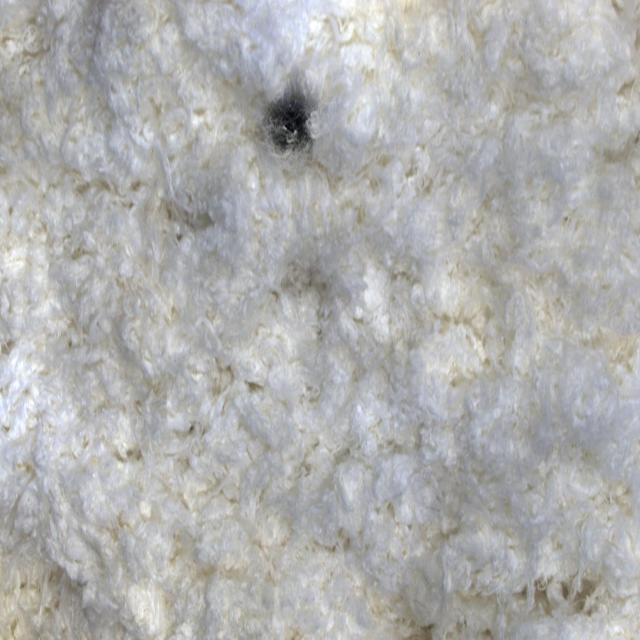dust: (245, 44, 345, 203)
